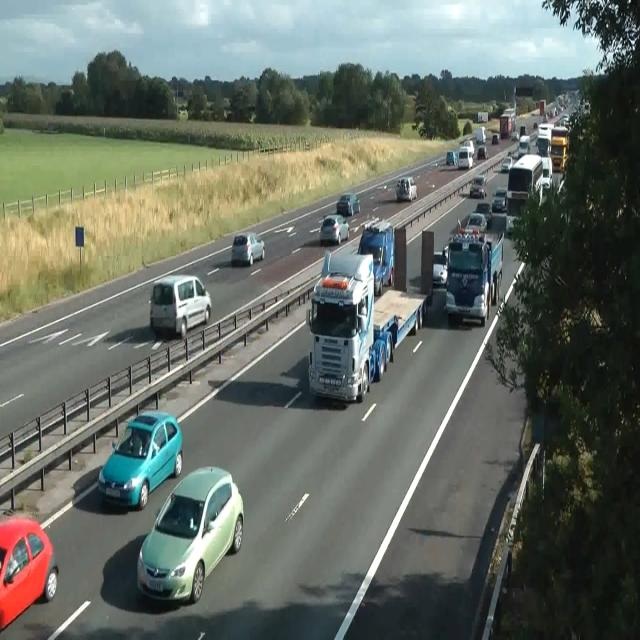bus: (136, 465, 244, 604), (0, 512, 59, 631), (231, 232, 265, 266), (319, 213, 349, 246), (336, 192, 360, 216), (395, 176, 417, 202), (432, 250, 448, 284), (474, 202, 492, 226), (469, 175, 487, 198), (491, 188, 507, 212), (536, 135, 550, 156), (518, 134, 530, 158), (460, 138, 474, 156), (501, 156, 513, 172), (446, 150, 456, 166), (477, 146, 488, 159), (510, 130, 520, 140), (491, 133, 499, 144), (178, 108, 188, 116)
car: (357, 217, 395, 295)
jeep: (97, 408, 183, 510), (148, 273, 212, 339)
minibus: (307, 248, 431, 404), (444, 230, 504, 326), (506, 153, 543, 235), (537, 124, 569, 172), (499, 115, 512, 138), (476, 126, 486, 143), (478, 111, 488, 123)
